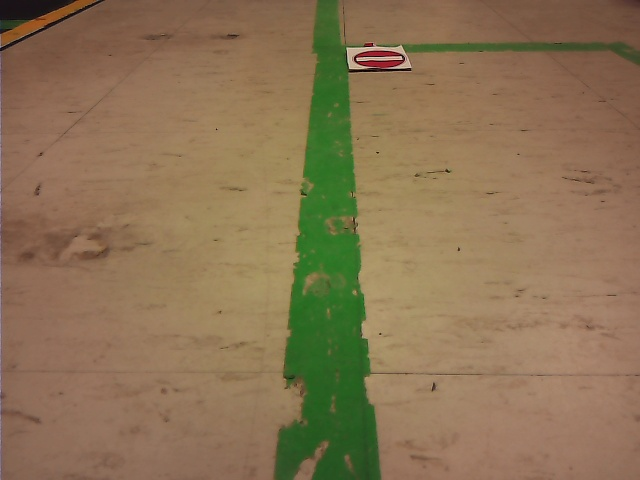NO ENTRY: (354, 50, 405, 68)
